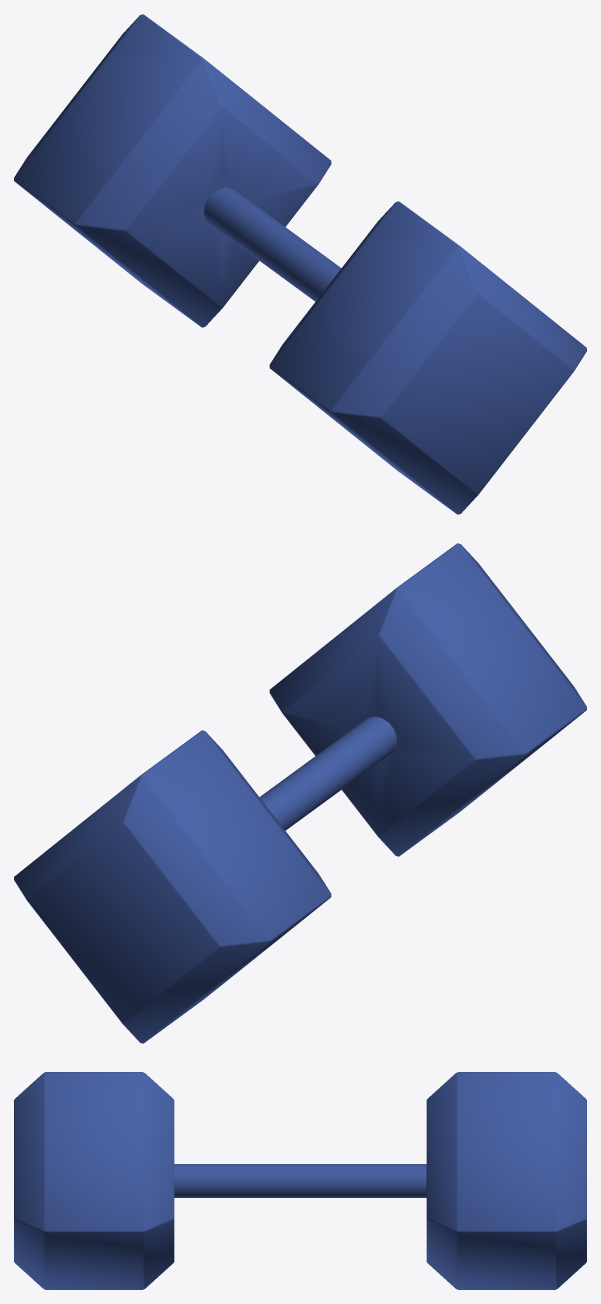
The model's file is mancuerna.dae.
3 views of the same model, one above another, from view 1: azimuth 30°, elevation 25°; view 2: azimuth 150°, elevation 25°; view 3: azimuth 270°, elevation 25° (orthographic). The views are drawn at different scales.
Parts seen in each view (by area): view 1: mancuerna; view 2: mancuerna; view 3: mancuerna.
Boxes of the visible parts, bbox=[...] form: mancuerna: bbox=[14, 14, 586, 514]; mancuerna: bbox=[14, 543, 586, 1043]; mancuerna: bbox=[14, 1072, 586, 1289].
Size of the model in its own units: 9.93 by 9.93 by 23.76.
